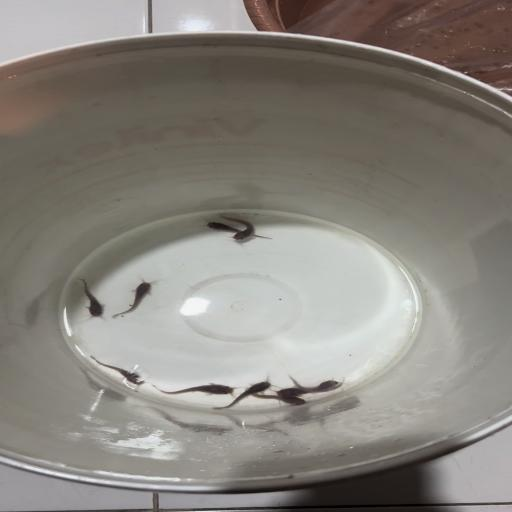lele: (82, 356, 148, 388), (110, 277, 157, 320), (212, 380, 273, 412), (72, 277, 108, 319), (200, 221, 272, 240), (152, 381, 236, 397), (220, 211, 257, 245), (250, 393, 313, 407), (288, 376, 345, 390), (274, 385, 313, 400)
